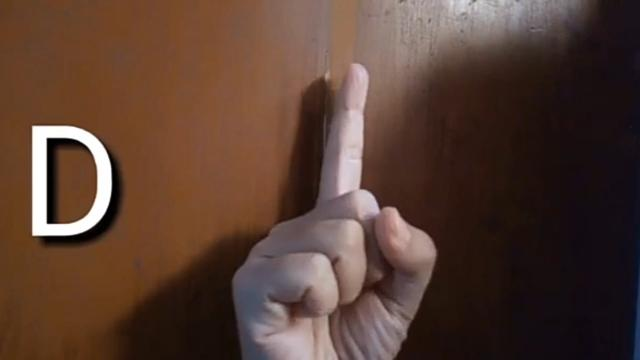D: (230, 61, 440, 360)
